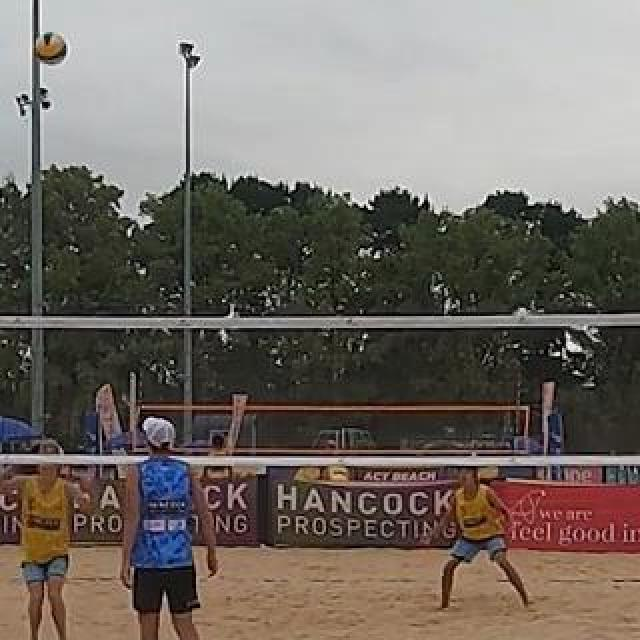volleyball: (37, 33, 67, 63)
